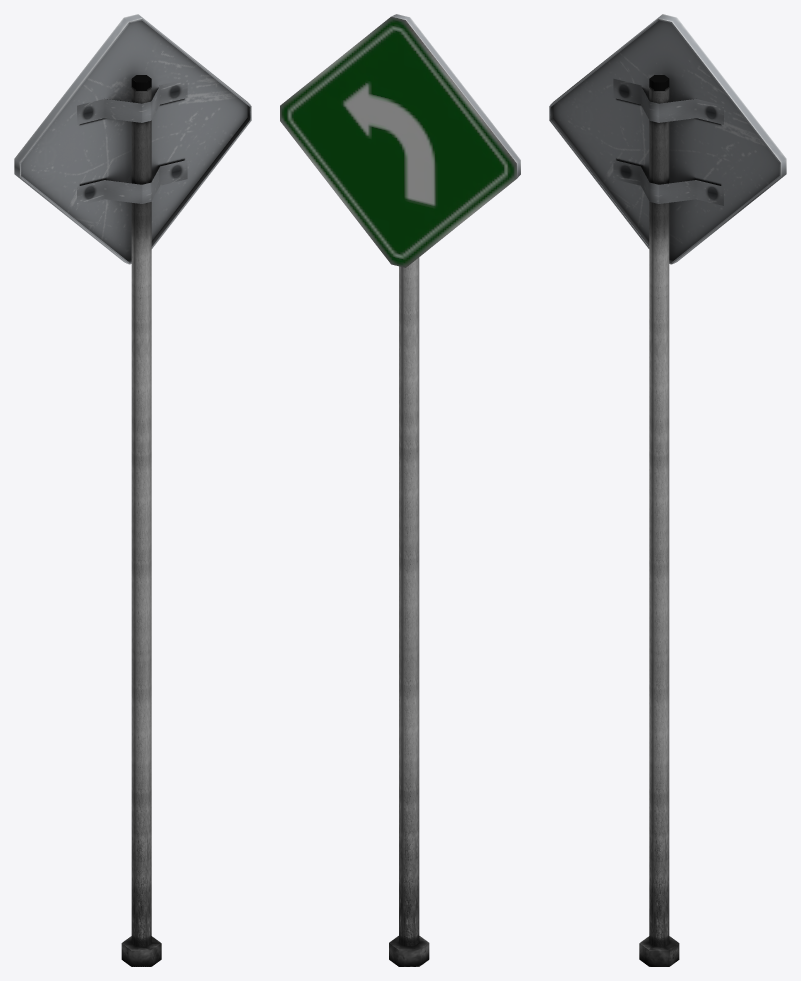
File: turn.fbx
3 renders of one model, left to right at view 1: azimuth 30°, elevation 25°; view 2: azimuth 150°, elevation 25°; view 3: azimuth 330°, elevation 25°, orthographic.
Visible parts, largest first — view 1: Priority_MainRoad_LOD0; view 2: Priority_MainRoad_LOD0; view 3: Priority_MainRoad_LOD0.
Part boxes in pixels (x1,y1,x2,y2): Priority_MainRoad_LOD0: (14, 14, 251, 966); Priority_MainRoad_LOD0: (280, 14, 520, 966); Priority_MainRoad_LOD0: (549, 14, 786, 966).
Bounding box in the file's own units: 66.57 × 255 × 10.13.
1 material, 1 textured.
